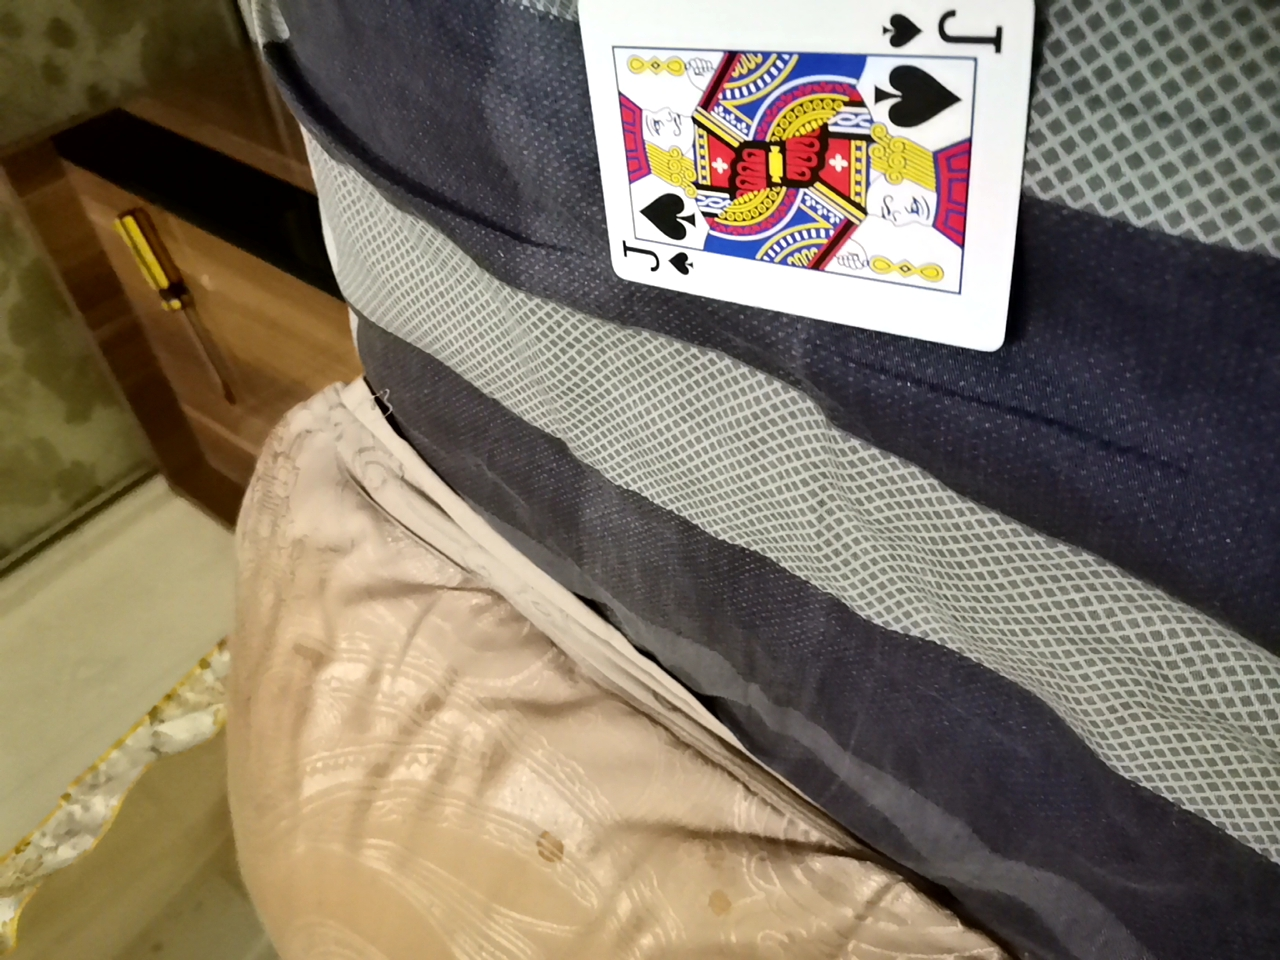ht j: (578, 4, 1034, 335)
